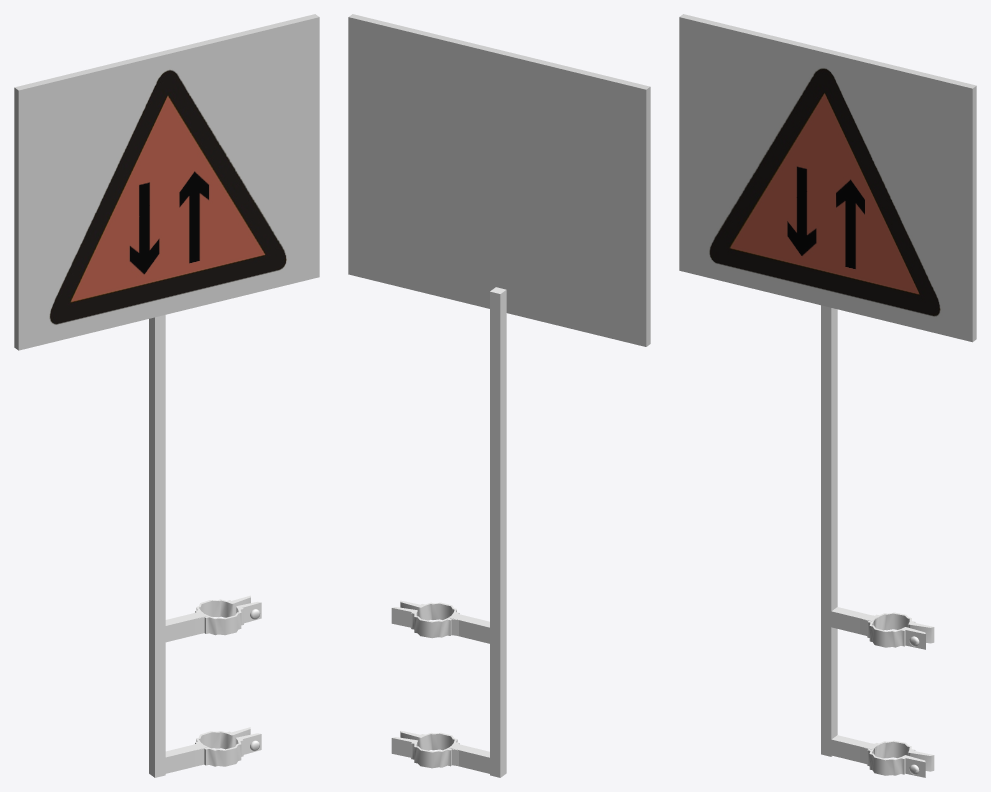
File: 双向车道-S.glb
3 views of the same model, side by side, from view 1: azimuth 30°, elevation 25°; view 2: azimuth 150°, elevation 25°; view 3: azimuth 330°, elevation 25° (orthographic). The views are drawn at different scales.
Visible parts, largest first — view 1: 立方体.1-材质.4, 立方体, 立方体.1-材质.2, pCube31, pCube20, 立方体.1, 立方体.2; view 2: 立方体.1-材质.2, 立方体, pCube20, pCube31, 立方体.2, 立方体.1; view 3: 立方体.1-材质.4, 立方体, 立方体.1-材质.2, pCube31, pCube20, 立方体.2, 立方体.1.
Part boxes in pixels (<box>): 立方体.1-材质.4: <box>18,17,319,350</box>; 立方体: <box>149,315,165,777</box>; 立方体.1-材质.2: <box>14,14,318,350</box>; pCube31: <box>194,595,261,635</box>; pCube20: <box>194,727,261,766</box>; 立方体.1: <box>165,611,206,642</box>; 立方体.2: <box>165,743,206,773</box>; 立方体.1-材质.2: <box>348,14,650,346</box>; 立方体: <box>490,287,506,777</box>; pCube20: <box>391,730,459,768</box>; pCube31: <box>391,600,459,638</box>; 立方体.2: <box>449,743,491,774</box>; 立方体.1: <box>449,613,491,644</box>; 立方体.1-材质.4: <box>679,17,972,342</box>; 立方体: <box>821,305,837,756</box>; 立方体.1-材质.2: <box>679,14,976,341</box>; pCube31: <box>860,612,934,649</box>; pCube20: <box>860,740,934,777</box>; 立方体.2: <box>831,735,877,762</box>; 立方体.1: <box>831,607,877,634</box>.
Size of the model in its own units: 7.01 by 16.13 by 0.9508.
Materials: 4 (1 with a texture image).
